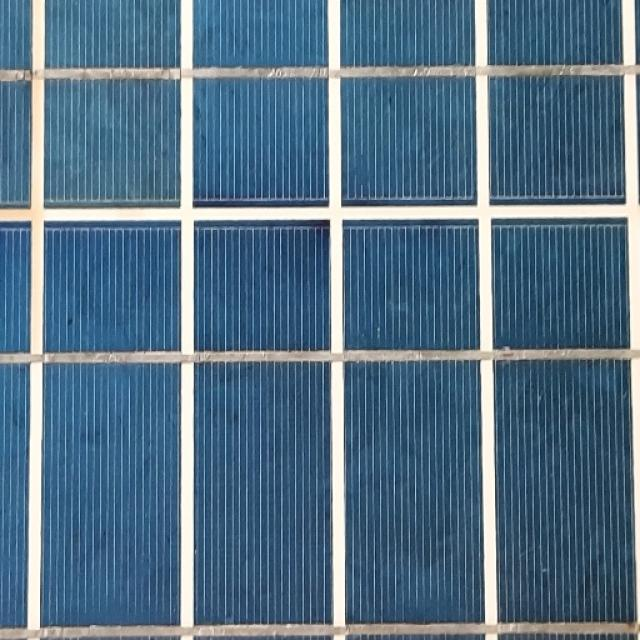Clean: (6, 22, 640, 640)
